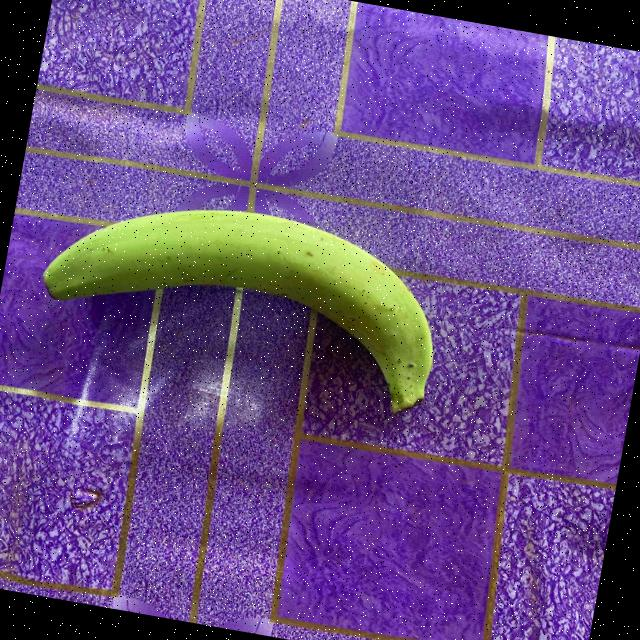Raw: (19, 161, 487, 458)
